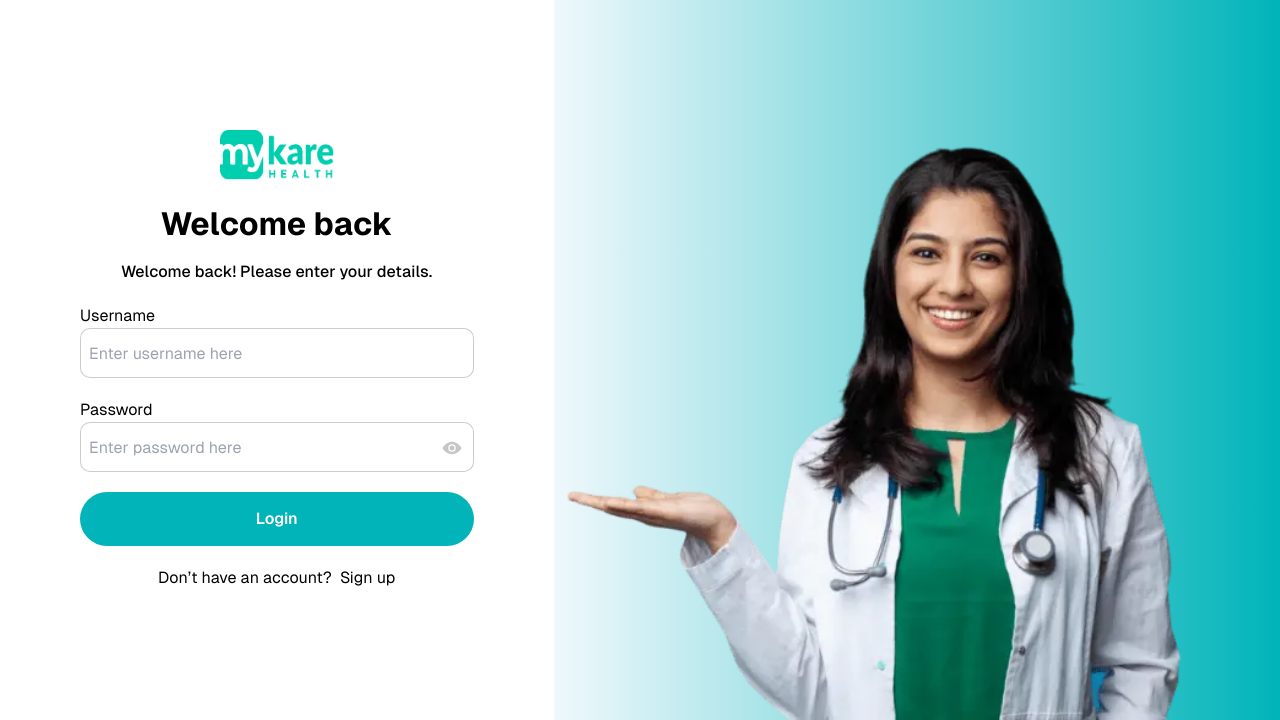
Test case: LoginView › shows validation errors when submitting empty form
Click the button "Login" at (277, 519), box [80,492,474,546]
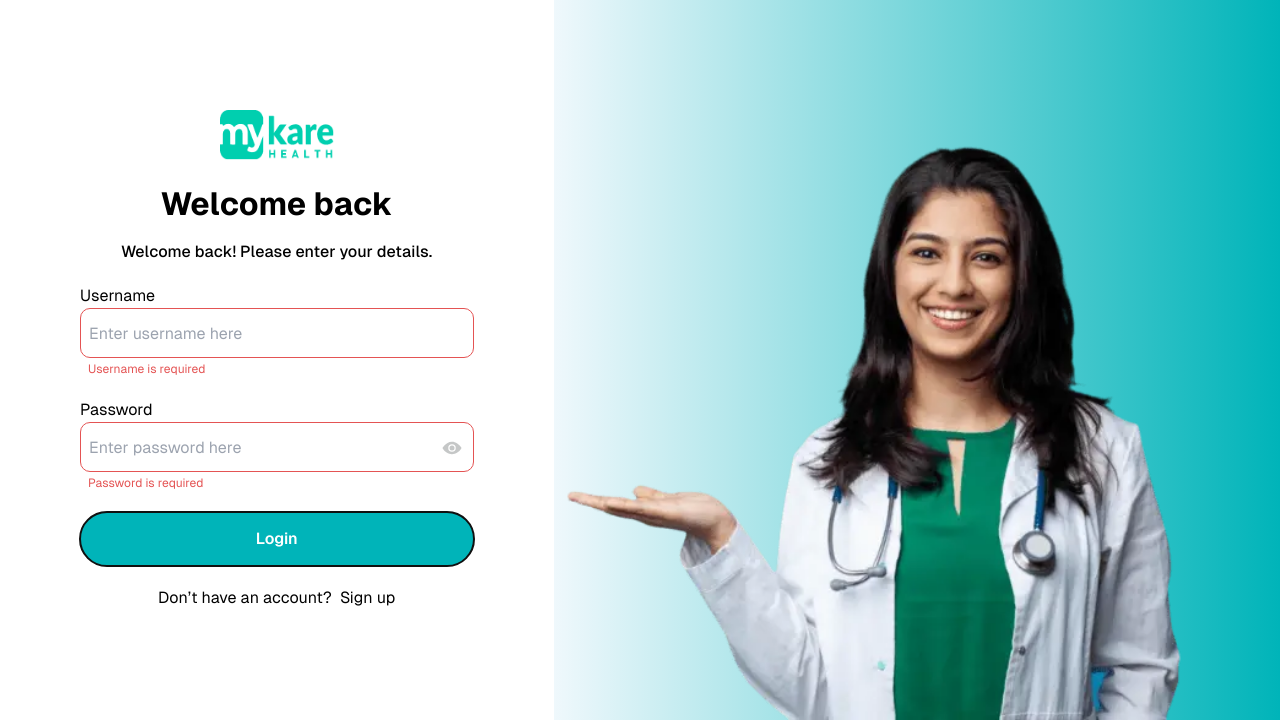
Check: the text "Username is required" is shown, box [88,360,205,378]
Check: the text "Password is required" is shown, box [88,474,204,492]
